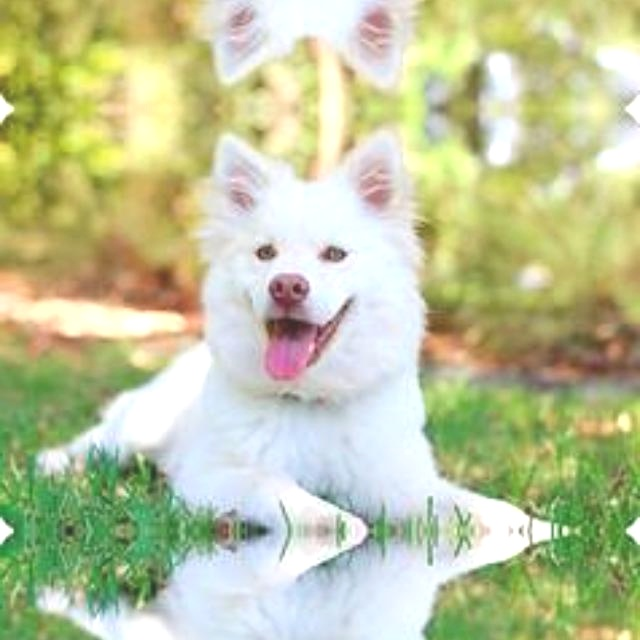dog: (65, 144, 470, 530), (66, 530, 471, 640), (66, 0, 471, 72)
